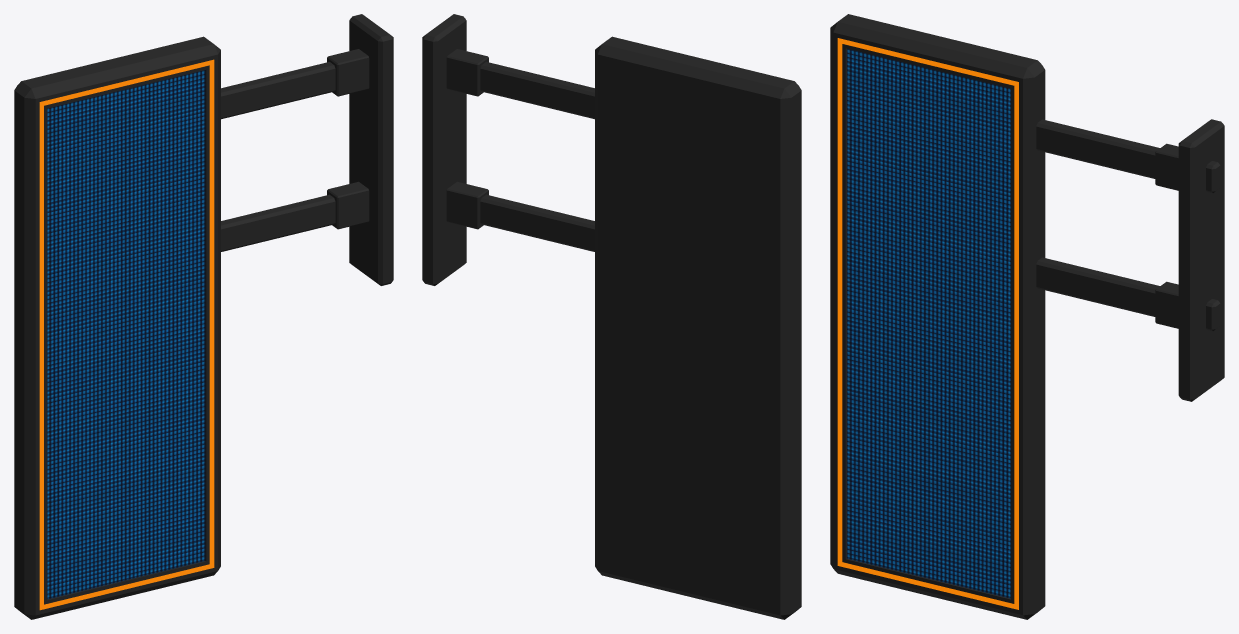
Rendered from cyberpunk-animated-japanese-led-neon-sig-fab087.glb.
3 views of the same model, side by side, from view 1: azimuth 30°, elevation 25°; view 2: azimuth 150°, elevation 25°; view 3: azimuth 330°, elevation 25° (orthographic). The views are drawn at different scales.
Visible parts, largest first — view 1: PropMesh; view 2: PropMesh; view 3: PropMesh.
Boxes of the visible parts, x1,y1,x2,y2 form: PropMesh: (14,14,393,619); PropMesh: (422,14,801,619); PropMesh: (830,14,1224,619).
Bounding box in the file's own units: 1.16 × 1.6 × 0.175.
18 materials, 16 textured.
